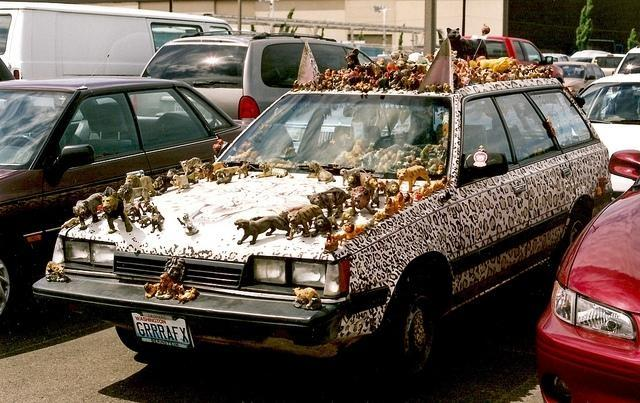car: (31, 78, 613, 388), (2, 72, 250, 280), (534, 150, 639, 403), (141, 32, 382, 120), (0, 1, 234, 83), (575, 74, 640, 201), (464, 37, 564, 78), (553, 60, 605, 96), (570, 50, 626, 77), (613, 46, 640, 76), (542, 53, 570, 62)
truck: (4, 0, 234, 83), (462, 34, 566, 84)
